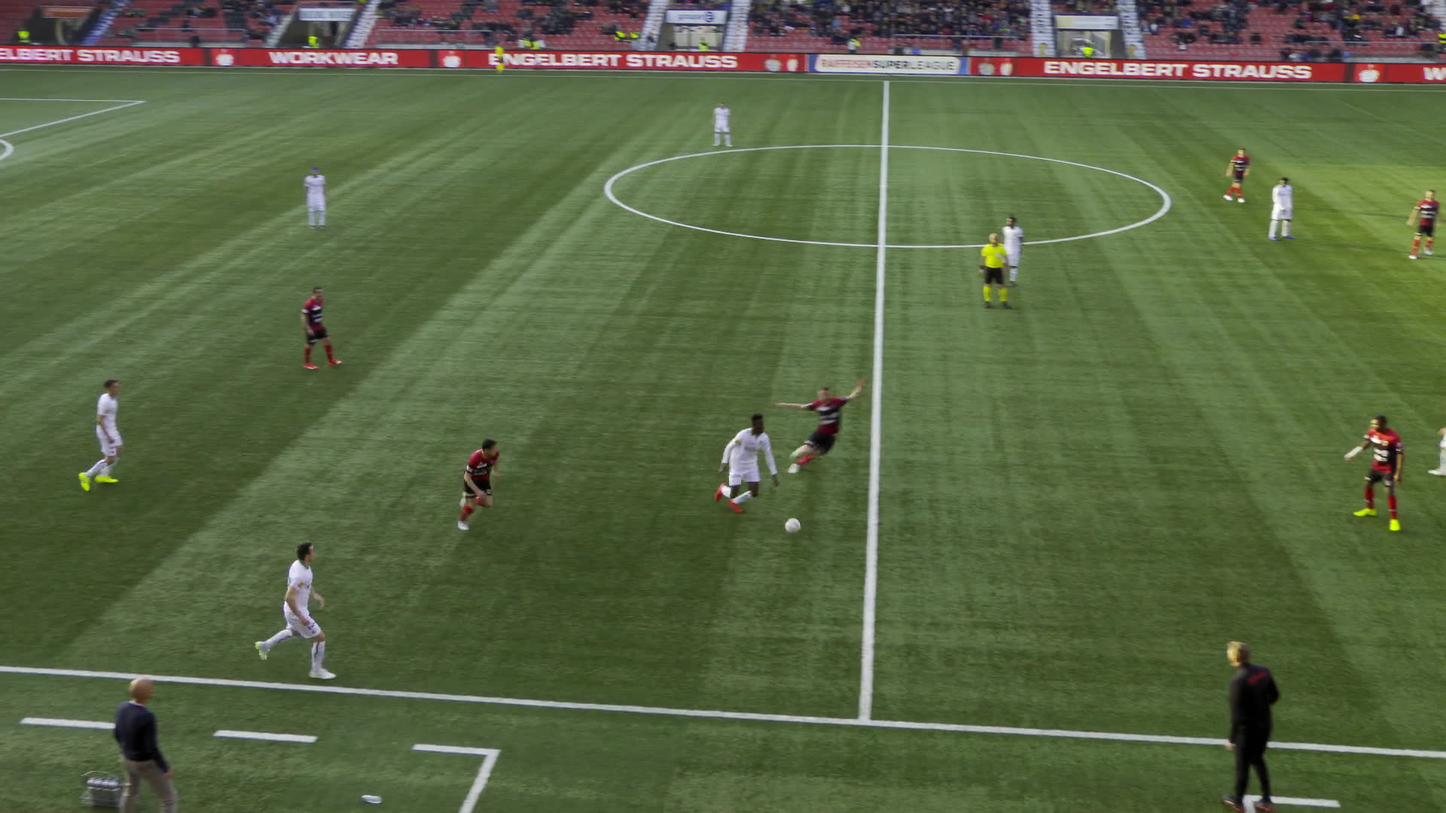ball: (783, 513, 797, 525)
player: (254, 540, 343, 679), (787, 376, 882, 474), (717, 410, 783, 517), (1354, 415, 1411, 533), (77, 379, 124, 491), (453, 437, 506, 530), (307, 285, 346, 368), (1405, 188, 1441, 259), (1005, 212, 1029, 287), (1271, 176, 1297, 240), (306, 167, 331, 230), (1225, 148, 1254, 202), (714, 102, 735, 148), (1427, 425, 1445, 475)
referee: (981, 232, 1012, 309), (497, 43, 509, 75)
